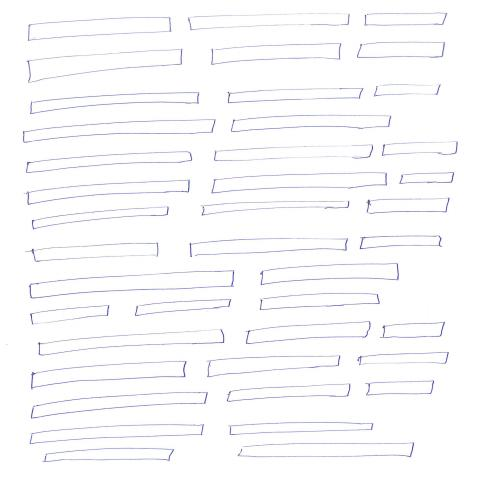Textbox: (28, 271, 235, 300), (27, 49, 184, 84), (38, 329, 226, 357), (30, 391, 209, 420), (22, 119, 216, 144), (30, 360, 188, 390), (26, 179, 192, 206), (211, 171, 389, 195), (29, 92, 200, 115), (26, 151, 194, 174), (28, 424, 205, 445), (28, 17, 173, 42), (189, 237, 349, 259), (32, 206, 172, 231), (260, 264, 400, 287), (207, 355, 341, 379), (245, 321, 372, 346), (213, 144, 374, 163), (210, 43, 342, 66), (187, 14, 352, 32), (230, 115, 392, 133), (237, 443, 415, 459), (32, 242, 159, 263), (227, 383, 353, 403), (200, 201, 351, 217), (226, 87, 365, 104), (41, 447, 175, 464), (258, 293, 381, 311), (228, 421, 374, 436), (134, 298, 232, 317), (30, 305, 111, 326), (355, 42, 446, 60), (365, 199, 451, 215), (358, 352, 449, 367), (359, 235, 443, 251), (363, 13, 448, 28), (365, 380, 436, 397), (381, 142, 459, 157), (381, 322, 446, 340), (372, 83, 441, 97), (398, 173, 455, 185)
